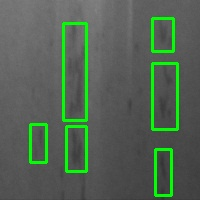inclusion: (63, 23, 86, 120), (152, 63, 177, 129), (66, 126, 86, 171), (155, 149, 171, 195), (152, 18, 173, 51), (30, 124, 46, 162)
